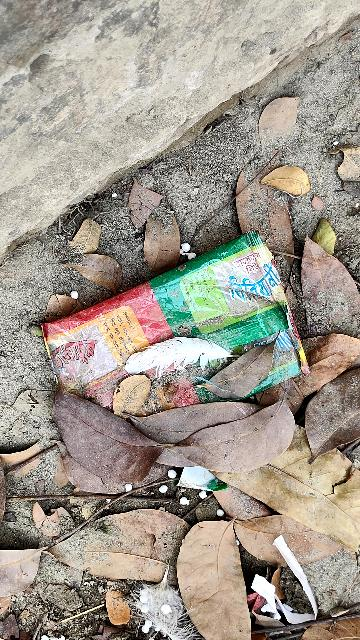packet: (40, 232, 307, 461)
